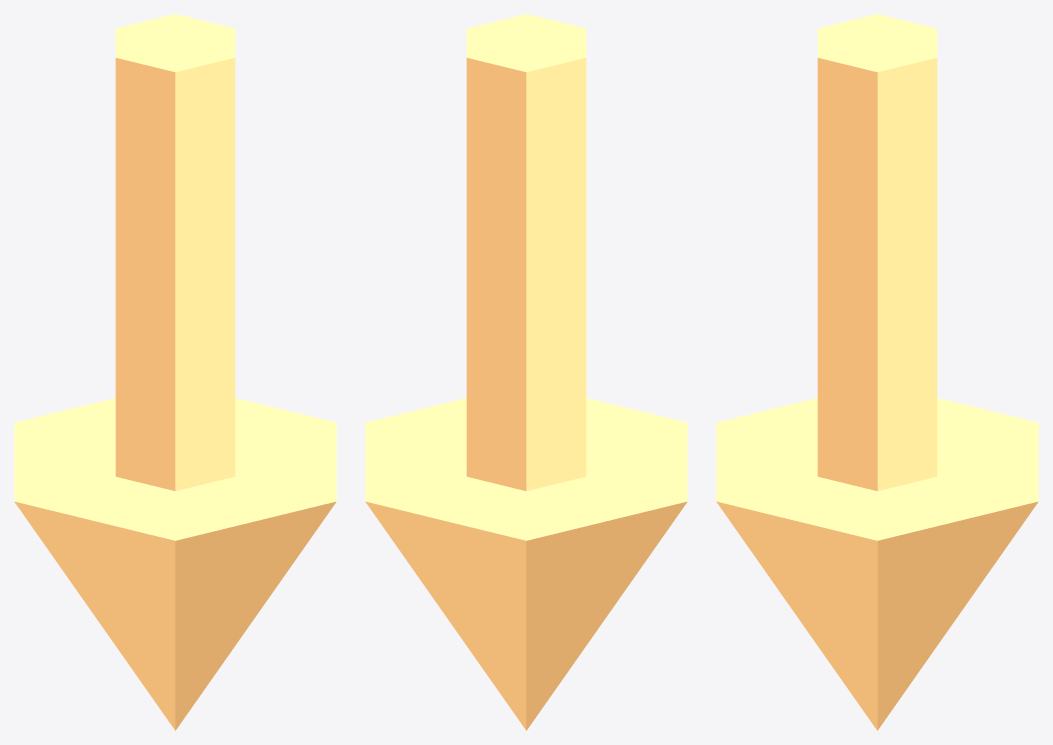
The model's file is hotspot-arrow.glb.
The picture shows the model from 3 angles, left to right: view 1: azimuth 30°, elevation 25°; view 2: azimuth 150°, elevation 25°; view 3: azimuth 270°, elevation 25°; orthographic projection.
Size of the model in its own units: 54 by 110 by 46.77.
